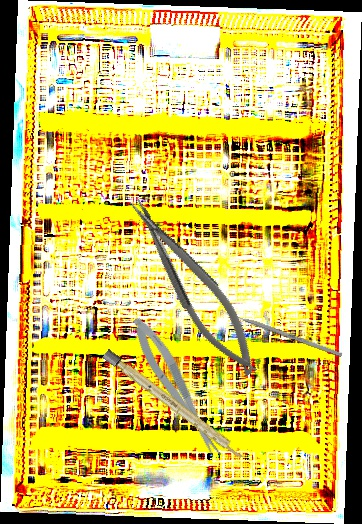Micro Scissor: (125, 311, 227, 466)
Needle Holder: (120, 185, 269, 386)
Pusher: (217, 307, 343, 358)
Scalpel Handle: (102, 348, 248, 463)
